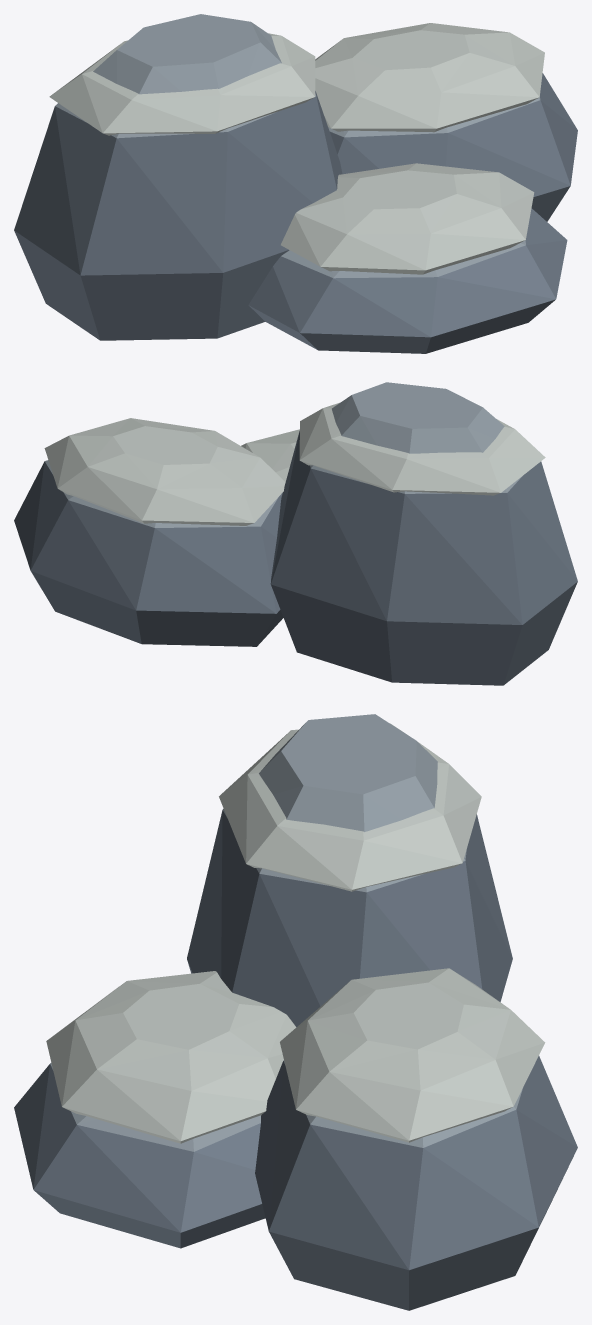
Rendered from snow-rocks.glb.
3 renders of one model, top to bottom at view 1: azimuth 30°, elevation 25°; view 2: azimuth 150°, elevation 25°; view 3: azimuth 270°, elevation 25°, orthographic. The views are drawn at different scales.
Parts seen in each view (by area): view 1: snow-rocks__body; view 2: snow-rocks__body; view 3: snow-rocks__body.
Part boxes in pixels (x1=…): snow-rocks__body: x1=14, y1=14, x2=577, y2=353; snow-rocks__body: x1=14, y1=382, x2=577, y2=685; snow-rocks__body: x1=14, y1=714, x2=577, y2=1310.
Bounding box in the file's own units: 1.43 × 0.62 × 0.9879.
